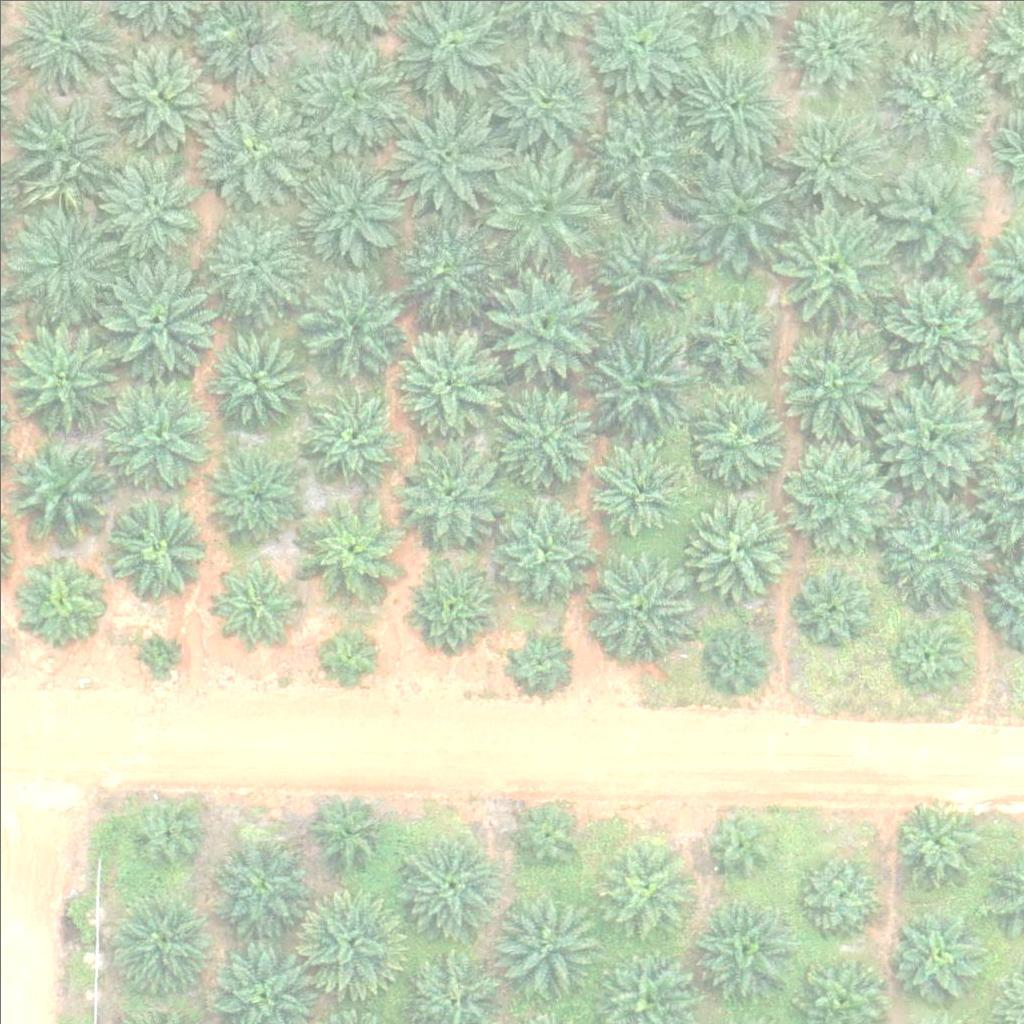Kelapa_Sawit: (871, 259, 996, 385), (770, 317, 895, 443), (771, 202, 896, 328), (675, 146, 800, 272), (579, 326, 704, 452), (580, 207, 705, 333), (580, 91, 705, 217), (479, 257, 604, 383), (481, 139, 606, 265), (384, 91, 509, 217), (96, 253, 221, 379), (3, 196, 128, 322), (481, 37, 606, 163), (383, 315, 508, 440), (193, 84, 318, 209), (286, 35, 411, 160), (5, 317, 118, 431), (879, 33, 992, 147), (879, 148, 992, 261), (779, 437, 892, 550), (877, 380, 989, 494), (772, 101, 884, 215), (293, 879, 405, 992), (882, 496, 994, 609), (100, 383, 212, 496), (97, 147, 209, 260), (7, 98, 119, 211), (211, 834, 311, 935), (398, 836, 498, 937), (495, 898, 595, 999), (594, 837, 694, 938), (693, 895, 793, 996), (687, 499, 787, 600), (688, 384, 788, 485), (585, 558, 685, 659), (591, 437, 691, 538), (494, 501, 594, 602), (494, 389, 594, 490), (399, 444, 499, 545), (391, 217, 491, 318), (297, 497, 397, 598), (302, 382, 402, 483), (301, 268, 401, 369), (297, 164, 397, 265), (205, 445, 305, 546), (203, 329, 303, 430), (206, 213, 306, 314), (109, 41, 209, 142), (108, 893, 208, 993), (887, 794, 987, 894), (681, 289, 781, 389), (105, 501, 205, 601), (10, 443, 110, 543), (682, 58, 782, 158), (794, 850, 882, 938), (212, 558, 300, 646), (890, 910, 977, 998), (401, 561, 488, 649), (14, 549, 101, 637), (890, 612, 965, 688), (127, 795, 202, 871), (701, 803, 776, 879), (793, 569, 868, 644), (309, 790, 384, 865), (505, 796, 580, 871), (704, 627, 767, 690), (505, 629, 567, 692), (319, 628, 381, 691), (137, 633, 174, 671)
